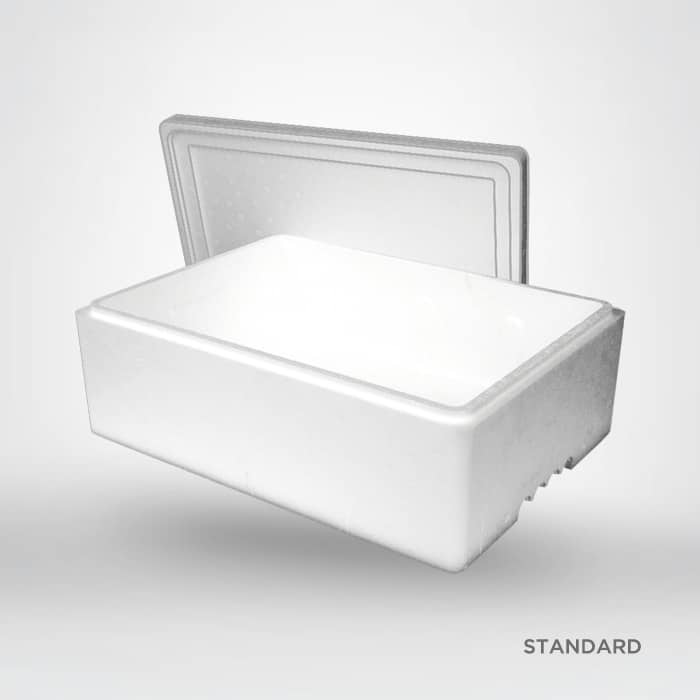Boxes: (76, 116, 624, 570)
